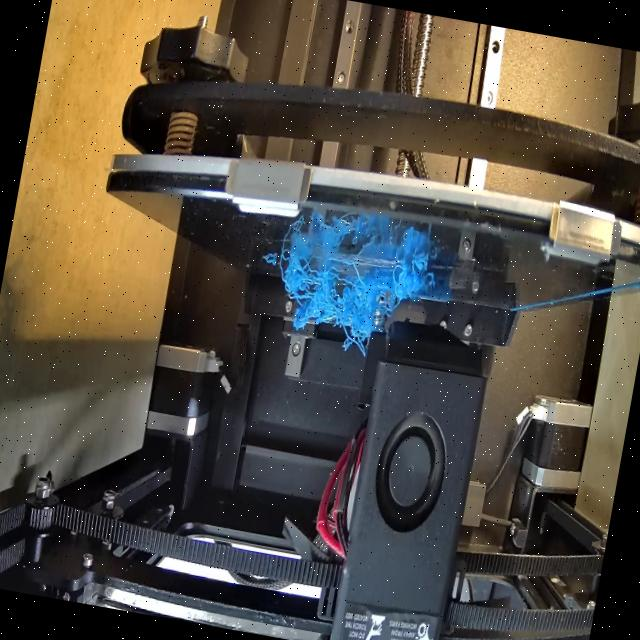spaghetti: (269, 250, 385, 340), (384, 250, 434, 307)
